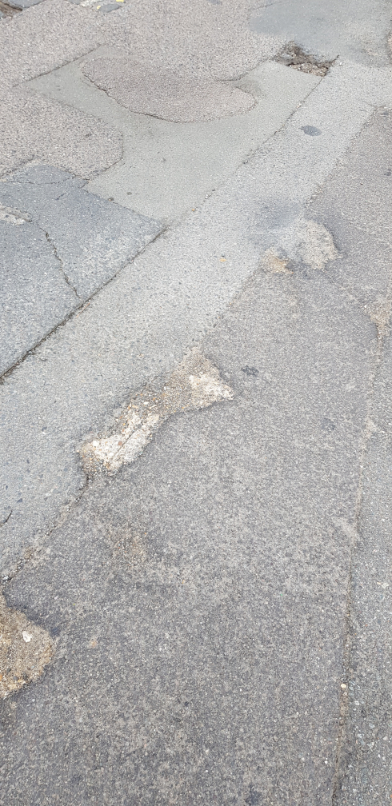pothole: (66, 338, 243, 481), (0, 590, 63, 707), (256, 208, 347, 283), (270, 38, 338, 82)
